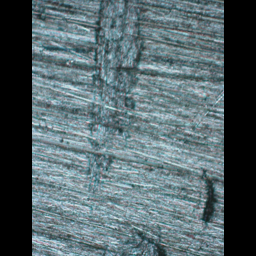d: (82, 0, 143, 191)
